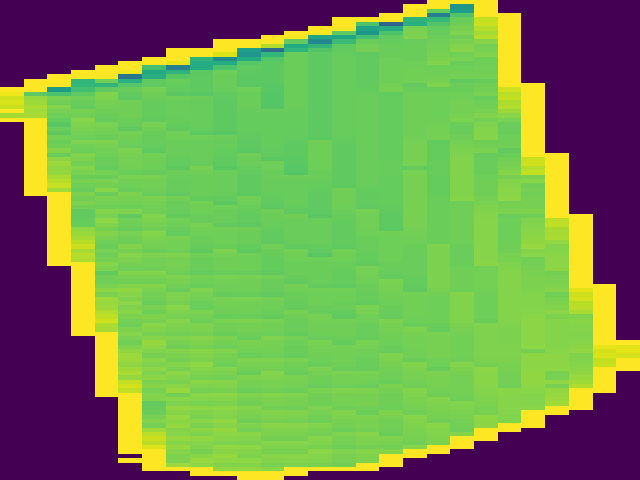cylinder: (2, 5, 640, 480)
